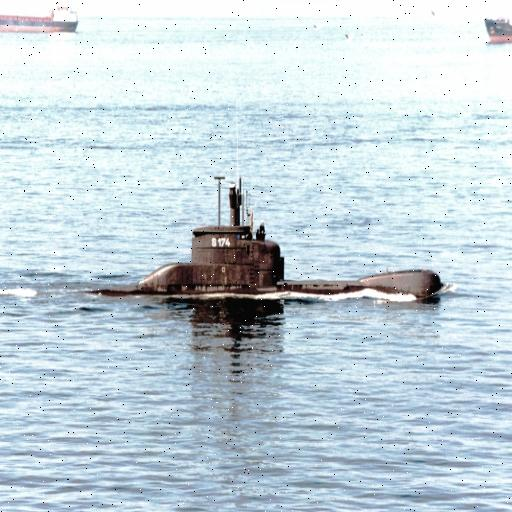submarine: (63, 158, 439, 308)
